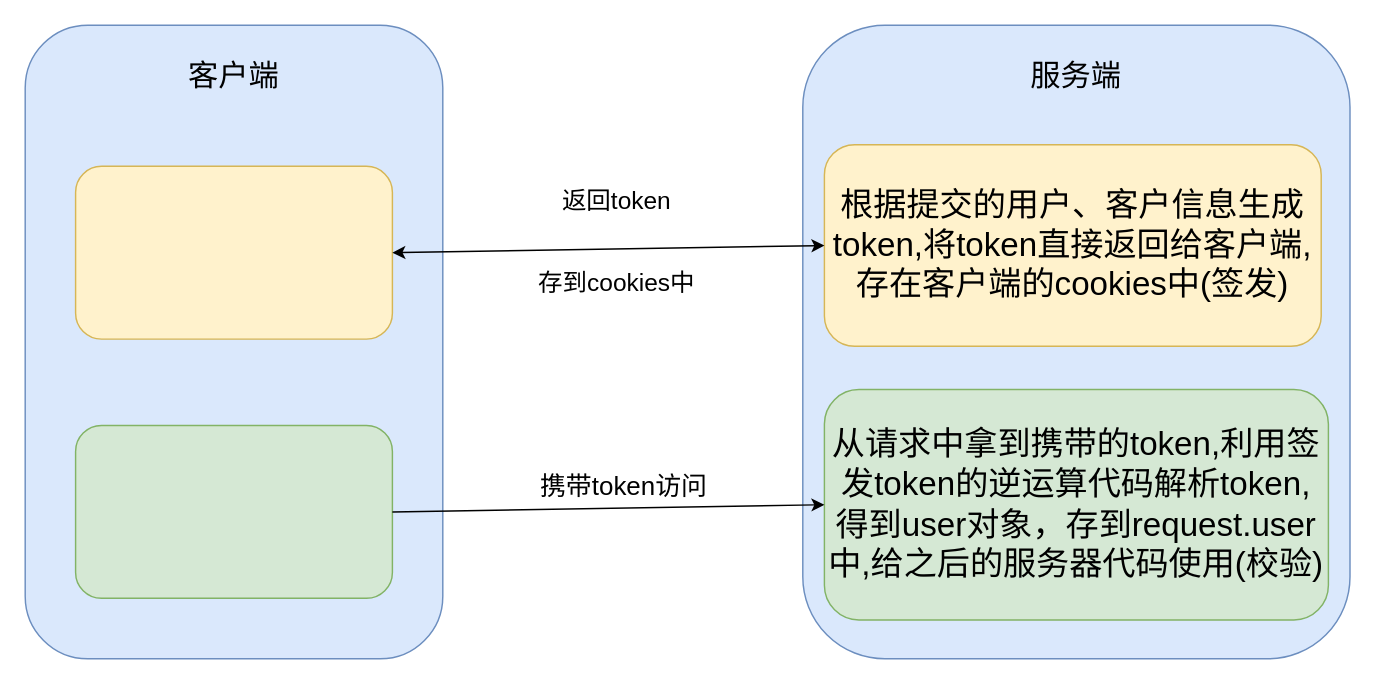
Some shapes in this 1375 by 684 pixel diagram are drawn without their labels. Each missing label, with the centre of its shape:
带着token访问需要权限的接口: pixel 233 511
账号密码登入，获取认证字符串token: pixel 233 252
